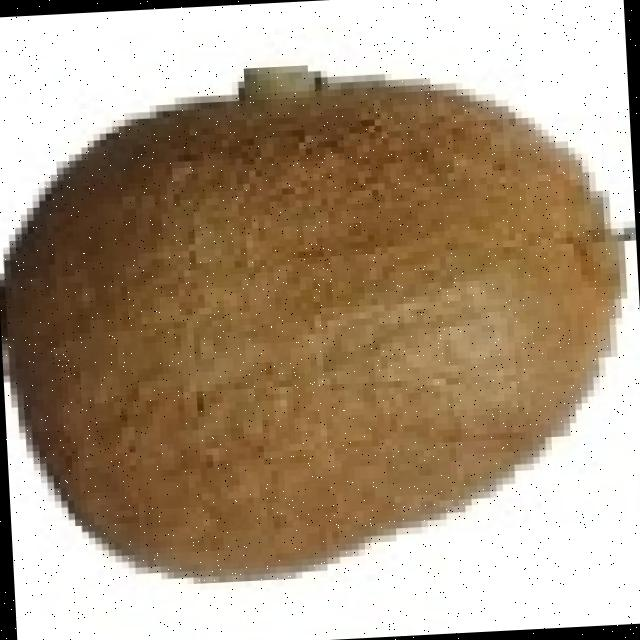kiwi: (17, 83, 627, 584)
